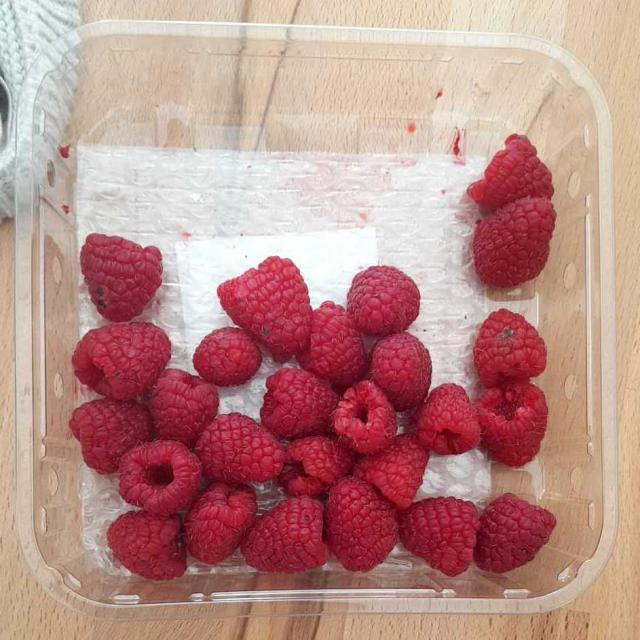raspberries: (67, 128, 571, 586)
